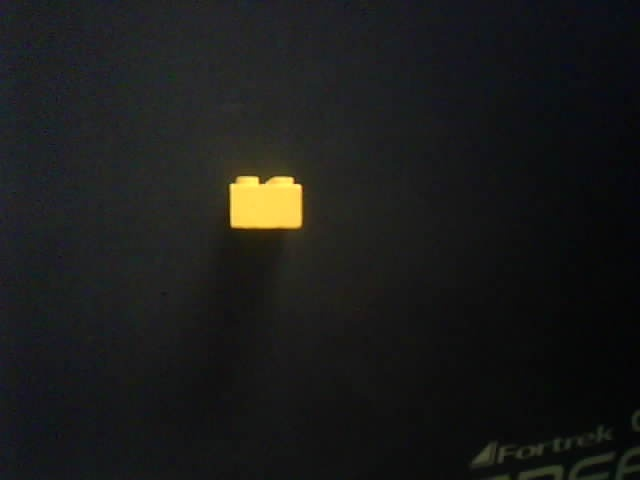lego: (226, 173, 304, 233)
